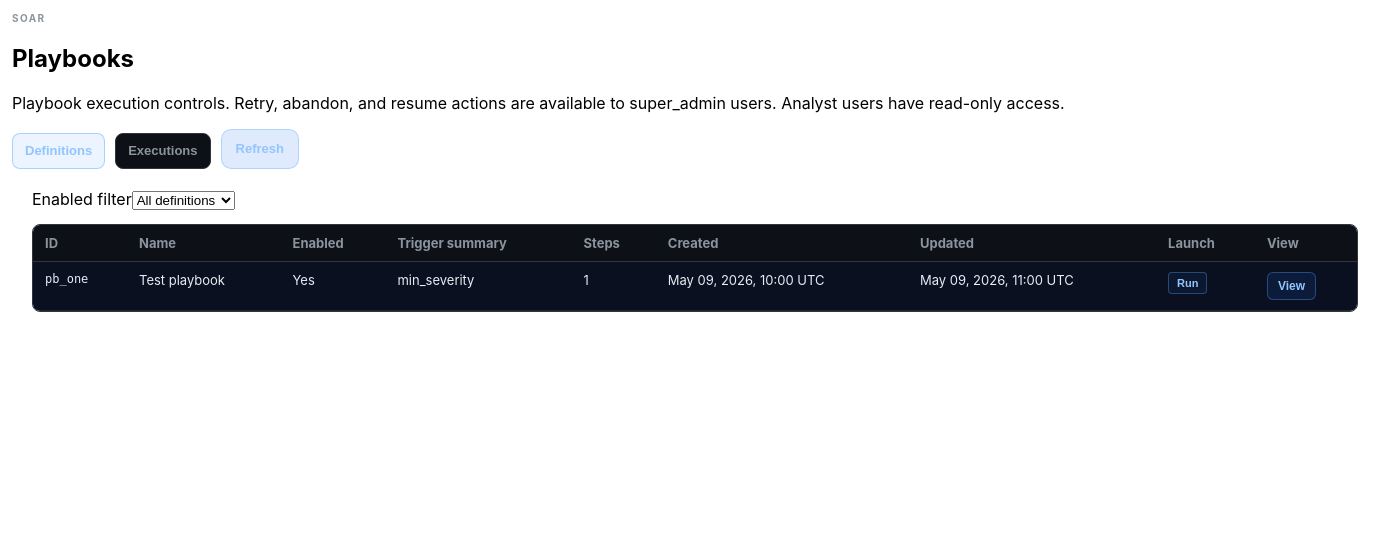
Test: analyst can launch enabled playbook for concrete alert target
Check: the text "pb_one" is shown, box 33,261 -> 127,310
Click the button "Run". click: (1188, 283)
box: 1168,272 -> 1207,294
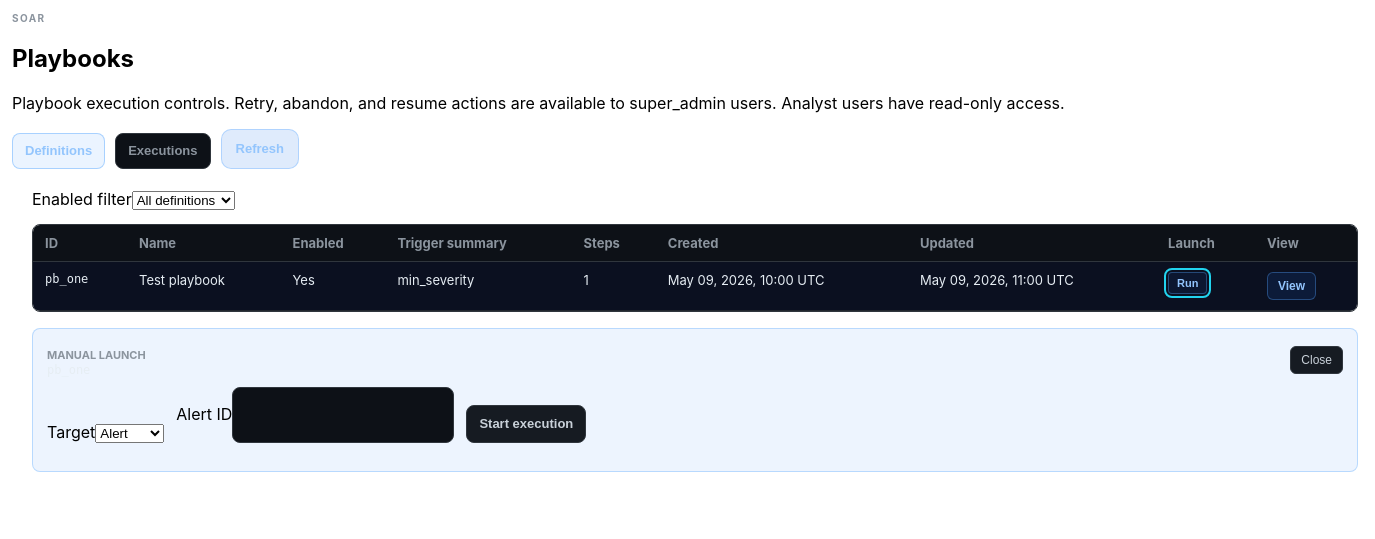
Type "77" into the number field labelled "Alert ID". click: (343, 415)
box: 232,387 -> 454,443
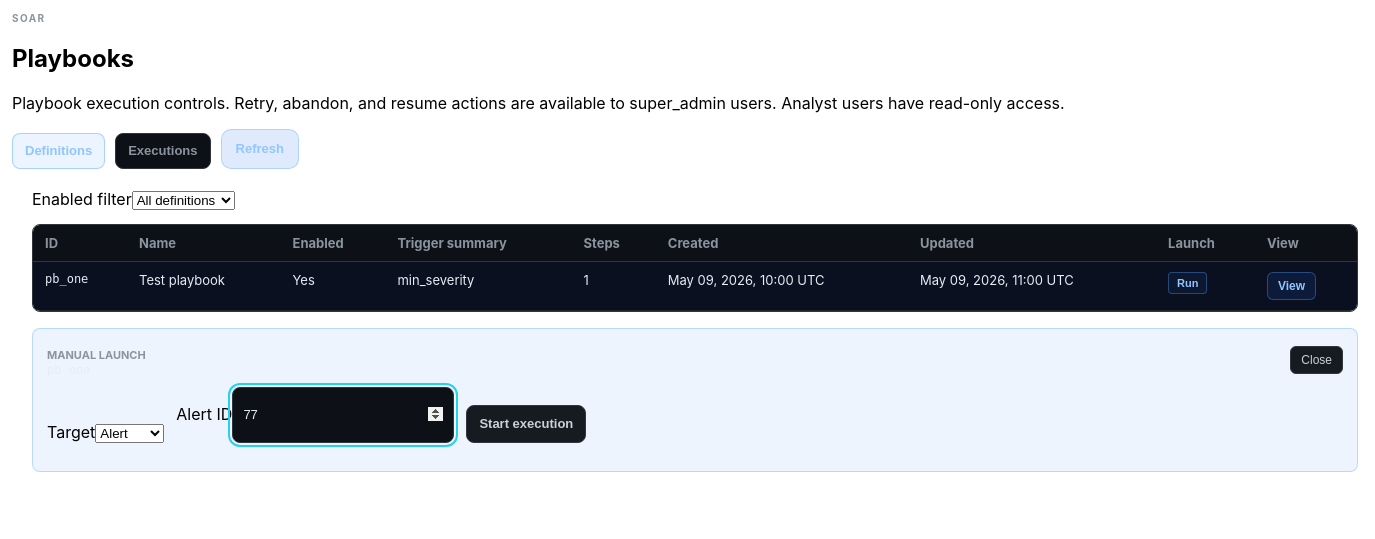
Click the button "Start execution". click: (526, 424)
box: 466,405 -> 586,443
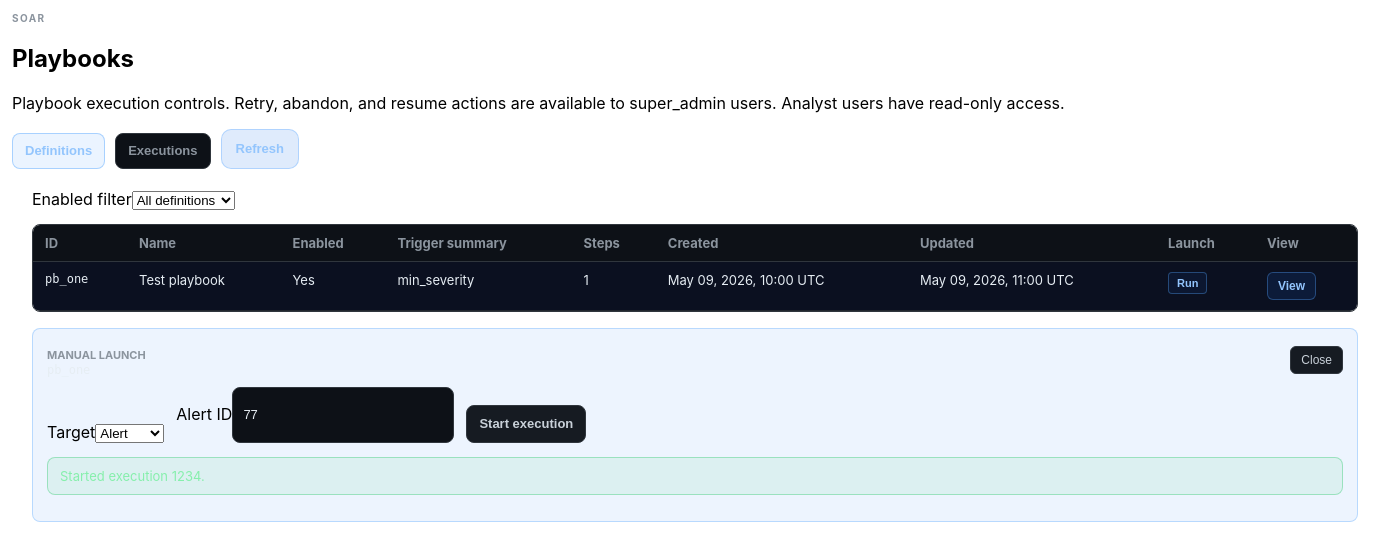
Check: the text "Started execution 1234." is shown, box 47,457 -> 1343,495
